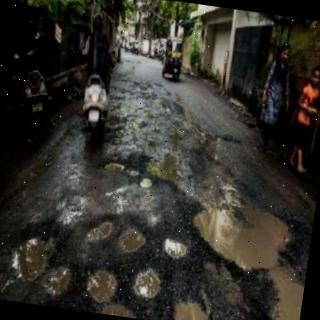pothole: (193, 210, 304, 320), (12, 239, 49, 281), (86, 270, 117, 303), (42, 265, 72, 298), (133, 267, 161, 301), (117, 226, 144, 252), (99, 301, 138, 318), (175, 302, 209, 320), (87, 221, 112, 242), (162, 238, 186, 259), (103, 162, 124, 173), (138, 178, 152, 188)
